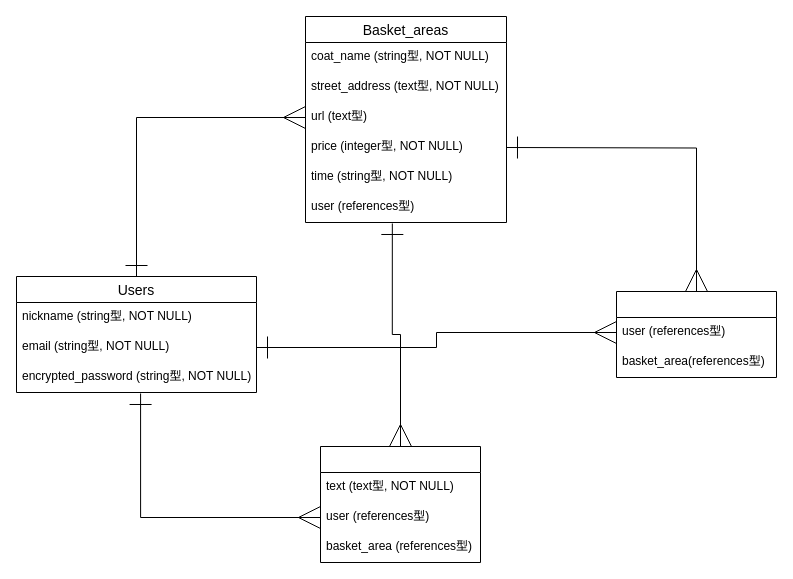
The diagram is 793 pixels wide and 579 high, and some of its shapes have lost their labels. Here are the shapes that lost their labels. From the top down, the box of each, then its label:
(616, 290, 776, 378): Likes
(320, 446, 480, 562): Comments
